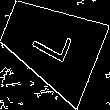L_NW: (26, 19, 75, 69)
